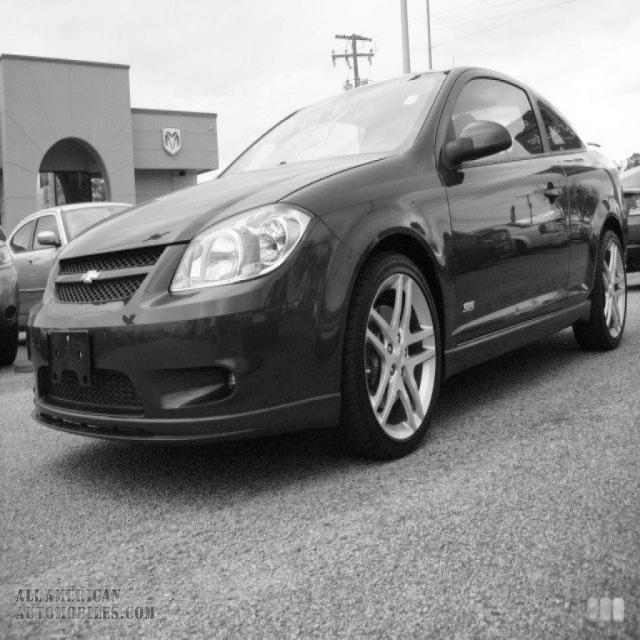car: (24, 65, 628, 460), (2, 201, 136, 362), (0, 224, 19, 366), (619, 164, 639, 268)
